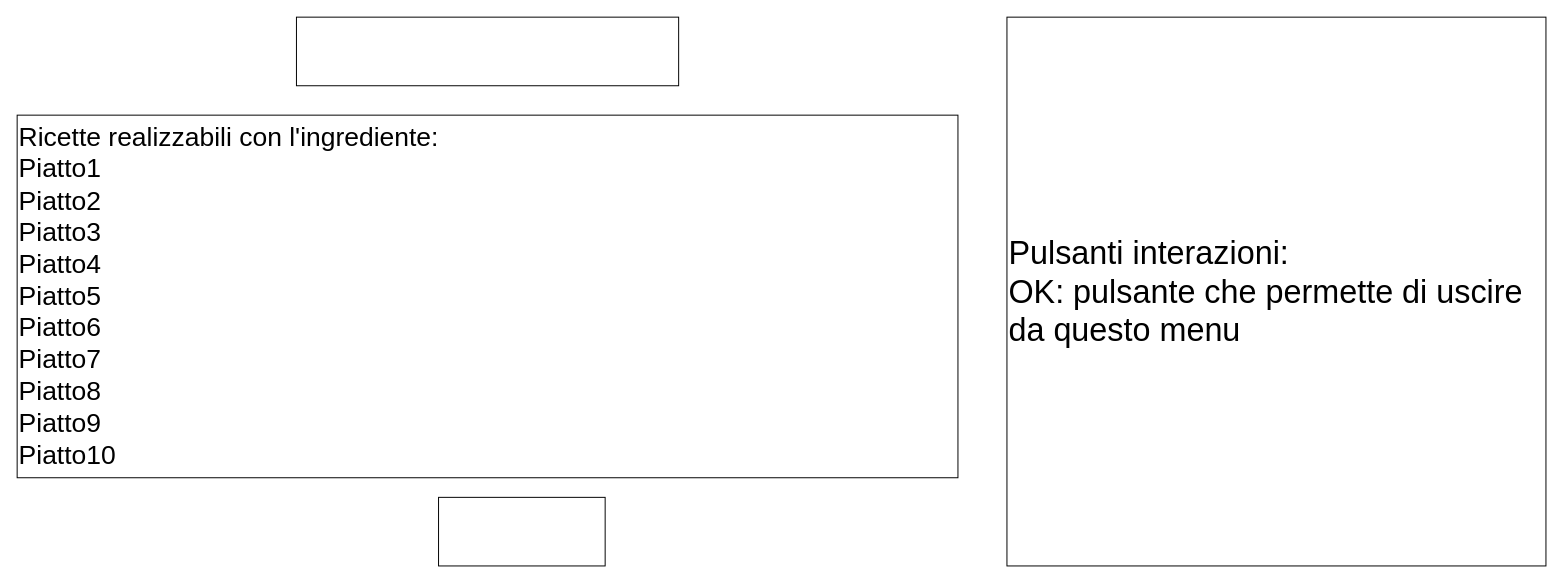
The diagram is 1563 pixels wide and 583 high, and some of its shapes have lost their labels. Each missing label, with the centre of its shape:
Nome ingrediente: point 487,51
OK: point 521,531
